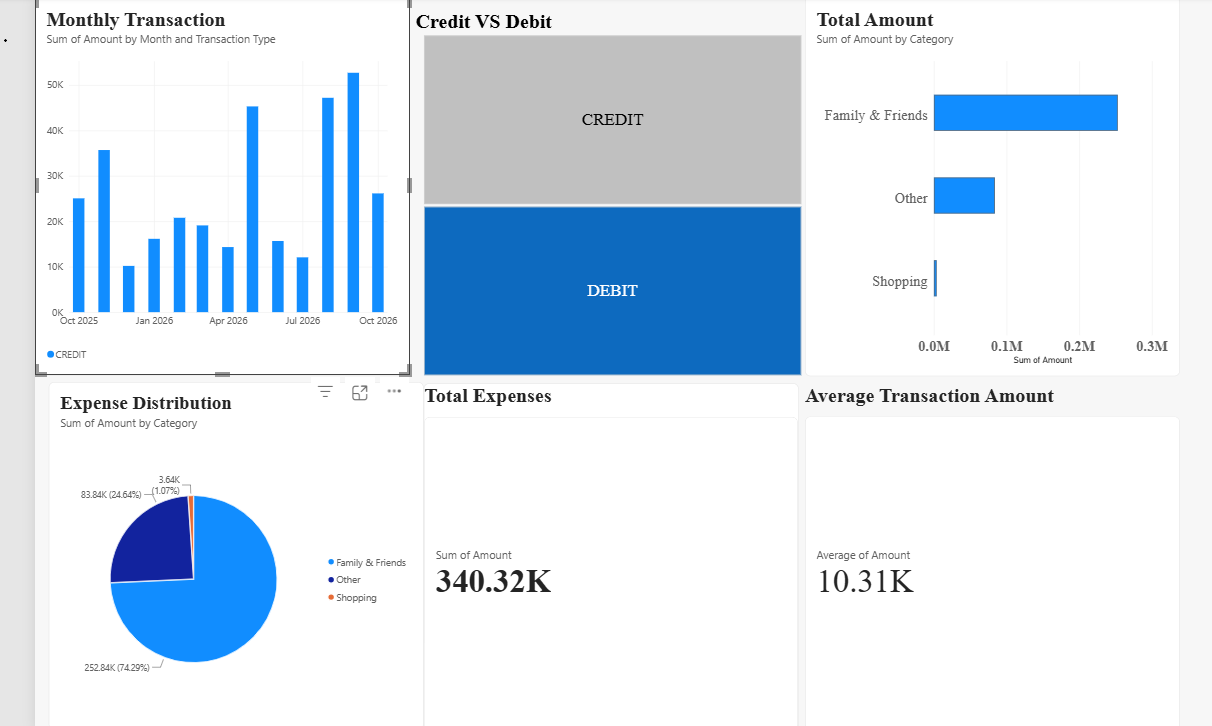

The dashboard page shown, as its layout file describes it:
{"tool":"powerbi","page":{"name":"Page 1","canvas":[1920,1080],"ordinal":0},"visuals":[{"type":"clusteredColumnChart","title":"Monthly Transaction","fields":{"Category":["finance_summary.Month"],"Series":["finance_summary.Transaction Type"],"Y":["Sum(finance_summary.Amount)"]},"box":[0,0,551.6,557.8],"z":0},{"type":"pieChart","title":"Expense Distribution","fields":{"Category":["finance_summary.Category"],"Y":["Sum(finance_summary.Amount)"]},"box":[20,567.5,552,512],"z":1000},{"type":"slicer","fields":{"Values":["finance_summary.Transaction Type"]},"box":[530,0,595,540],"z":1001},{"type":"cardVisual","title":"Total Expenses","fields":{"Data":["Sum(finance_summary.Amount)"]},"box":[572,568,552,512],"z":1002},{"type":"clusteredBarChart","title":"Total Amount","fields":{"Category":["finance_summary.Category"],"Y":["Sum(finance_summary.Amount)"]},"box":[1134,0,552,558],"z":1003},{"type":"cardVisual","title":"Average Transaction Amount","fields":{"Data":["Avg(finance_summary.Amount)"]},"box":[1134,568,552,512],"z":1004}]}

Visuals, with their boxes on the page's 1920x1080 design canvas (x1, y1, x2, y2). These are canvas units, not pixel positions in the 1212x726 screenshot, which may show the page scaled, cropped or inside an application window:
"Monthly Transaction" clusteredColumnChart: [0, 0, 552, 558]
"Expense Distribution" pieChart: [20, 568, 572, 1080]
slicer - finance_summary.Transaction Type: [530, 0, 1125, 540]
"Total Expenses" cardVisual: [572, 568, 1124, 1080]
"Total Amount" clusteredBarChart: [1134, 0, 1686, 558]
"Average Transaction Amount" cardVisual: [1134, 568, 1686, 1080]
